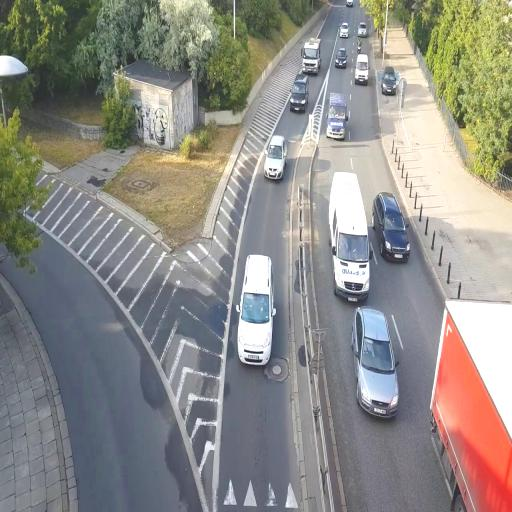vehicle: (430, 301, 512, 508), (350, 305, 402, 419), (329, 171, 371, 304), (237, 253, 274, 367), (238, 253, 273, 367), (378, 194, 410, 264), (326, 92, 350, 141), (264, 136, 287, 182), (302, 38, 321, 75), (380, 68, 400, 95), (354, 54, 370, 85), (334, 44, 348, 67)
